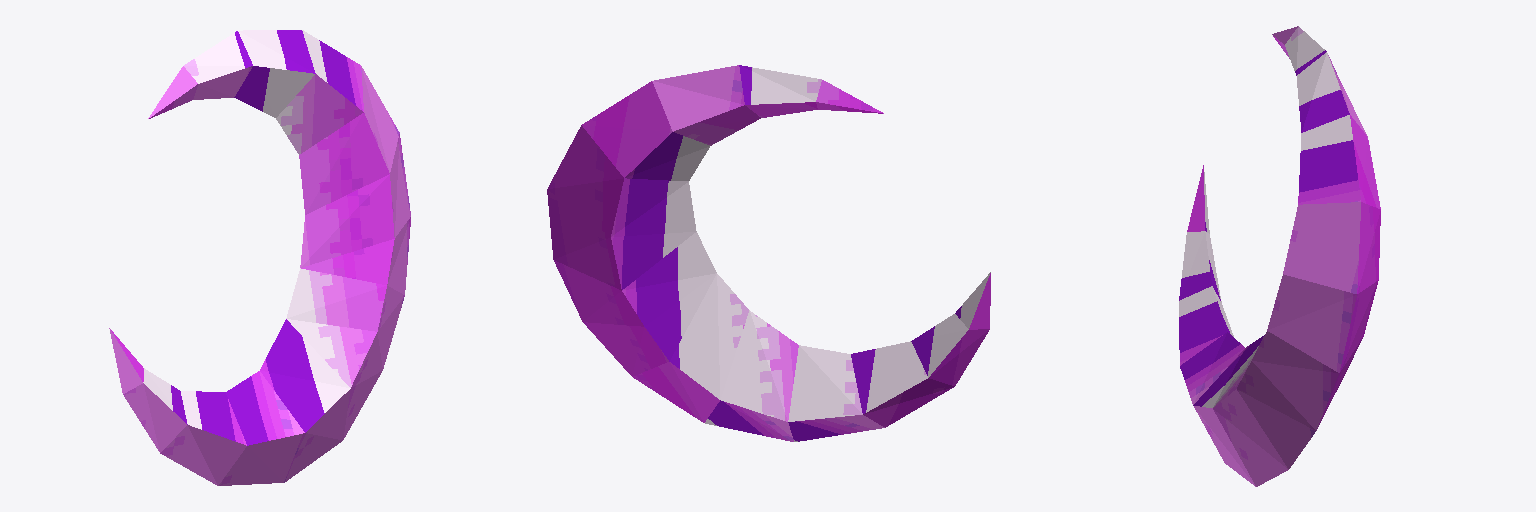
3 views of the same model, side by side, from view 1: azimuth 30°, elevation 25°; view 2: azimuth 150°, elevation 25°; view 3: azimuth 270°, elevation 25° (orthographic).
Visible parts, largest first — view 1: HealthUVFixed; view 2: HealthUVFixed; view 3: HealthUVFixed.
Part boxes in pixels (bbox=[...]): HealthUVFixed: bbox=[109, 30, 410, 485]; HealthUVFixed: bbox=[547, 65, 990, 441]; HealthUVFixed: bbox=[1179, 26, 1380, 486].
Size of the model in its own units: 9.63 by 10.29 by 4.55.
1 materials, 1 textured.